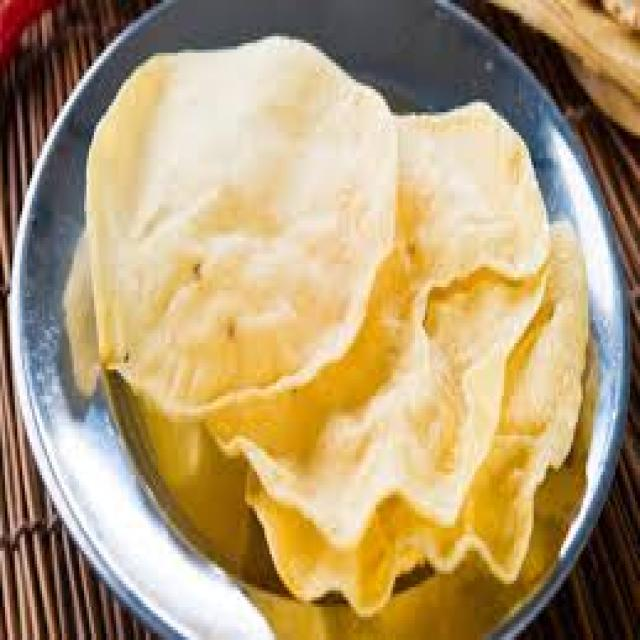papad: (189, 86, 556, 508), (200, 214, 597, 591), (88, 29, 400, 399)
